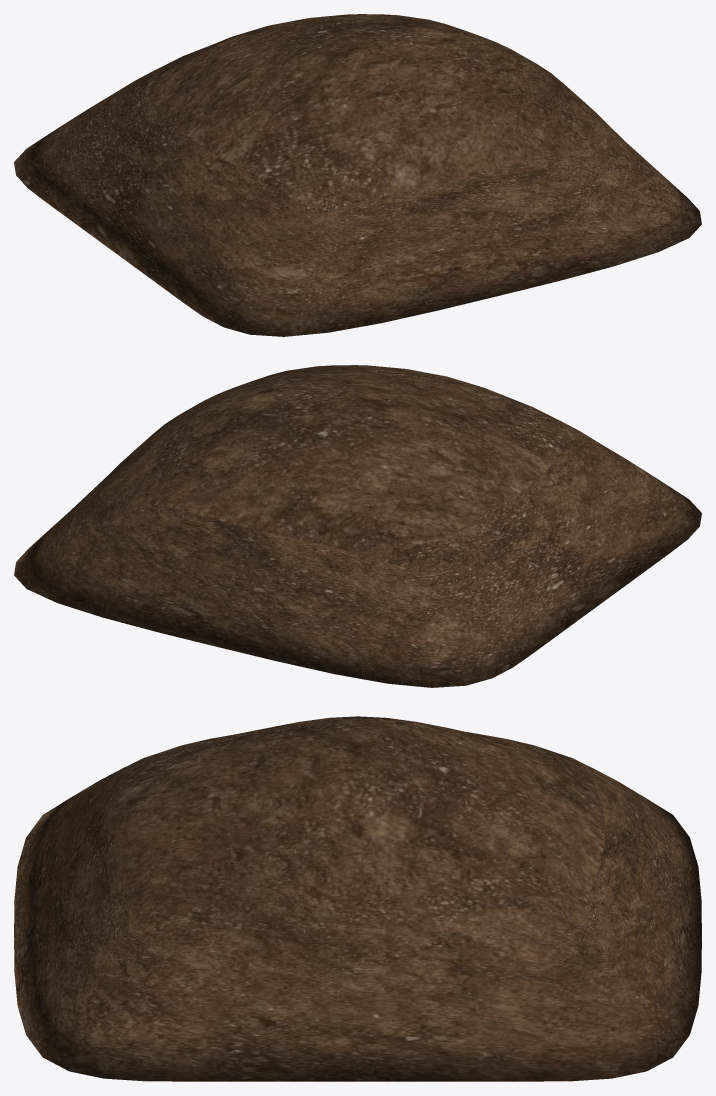
The model's file is Soil.fbx.
3 renders of one model, top to bottom at view 1: azimuth 30°, elevation 25°; view 2: azimuth 150°, elevation 25°; view 3: azimuth 270°, elevation 25°, orthographic. The views are drawn at different scales.
Parts seen in each view (by area): view 1: Cube; view 2: Cube; view 3: Cube.
Boxes of the visible parts, left/top/right/bottom form: Cube: left=14, top=14, right=701, bottom=336; Cube: left=14, top=365, right=701, bottom=687; Cube: left=14, top=716, right=701, bottom=1081.
Bounding box in the file's own units: 2.95 × 0.8473 × 2.95.
Materials: 1 (1 with a texture image).
